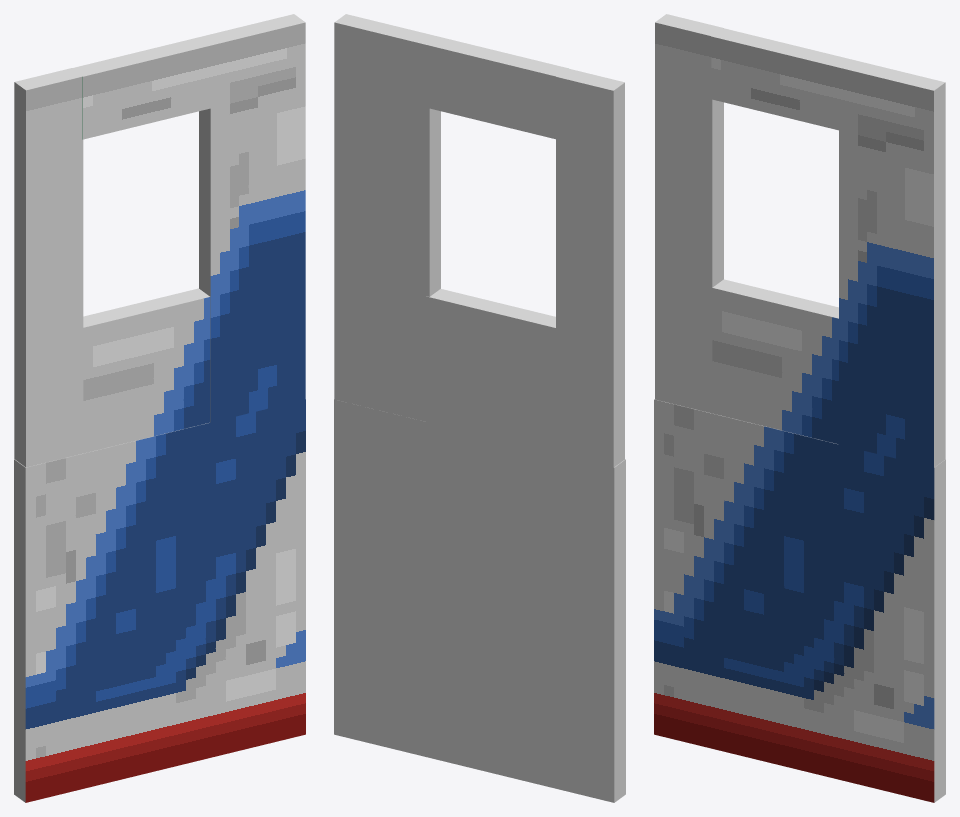
Rendered from df4d_cab_door_a.obj.
The picture shows the model from 3 angles, left to right: view 1: azimuth 30°, elevation 25°; view 2: azimuth 150°, elevation 25°; view 3: azimuth 330°, elevation 25°; orthographic projection.
Visible parts, largest first — view 1: cube; view 2: cube; view 3: cube.
Part boxes in pixels (x1,y1,x2,y2): cube: (14, 14, 305, 802); cube: (334, 14, 625, 802); cube: (654, 14, 945, 802).
Size of the model in its own units: 0.875 by 2.12 by 0.064.
